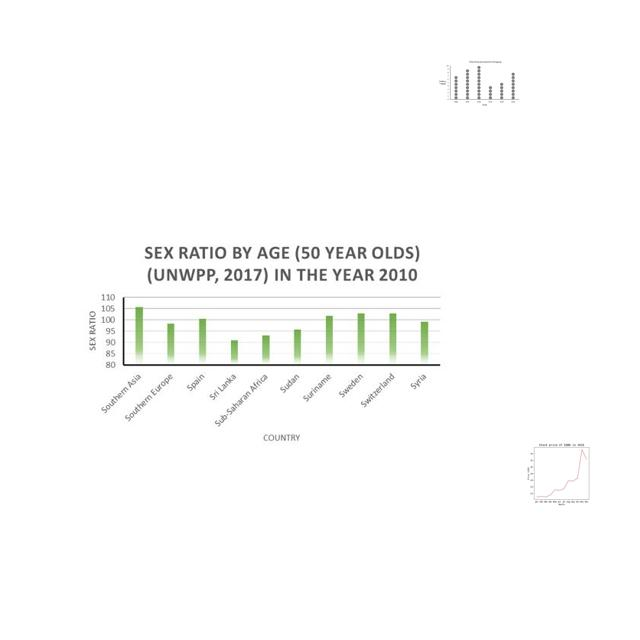Graph: (78, 237, 446, 449), (515, 439, 606, 507), (436, 59, 521, 108)
